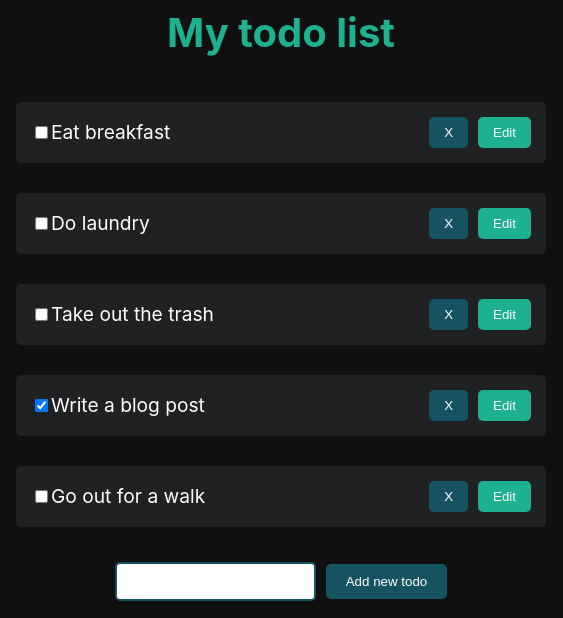
Test: <App /> tests › should remove a todo from the list
Click the button with test id "close-btn-3". click: (449, 314)
box: [429,299,468,330]
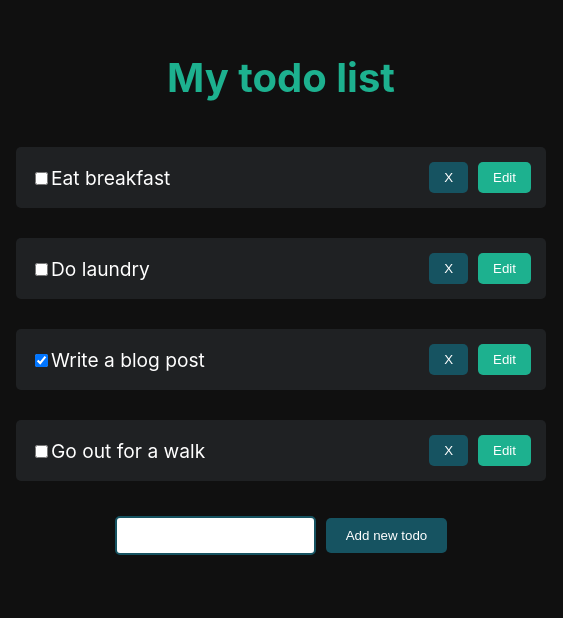
Expected: the text "Take out the trash" is gone
